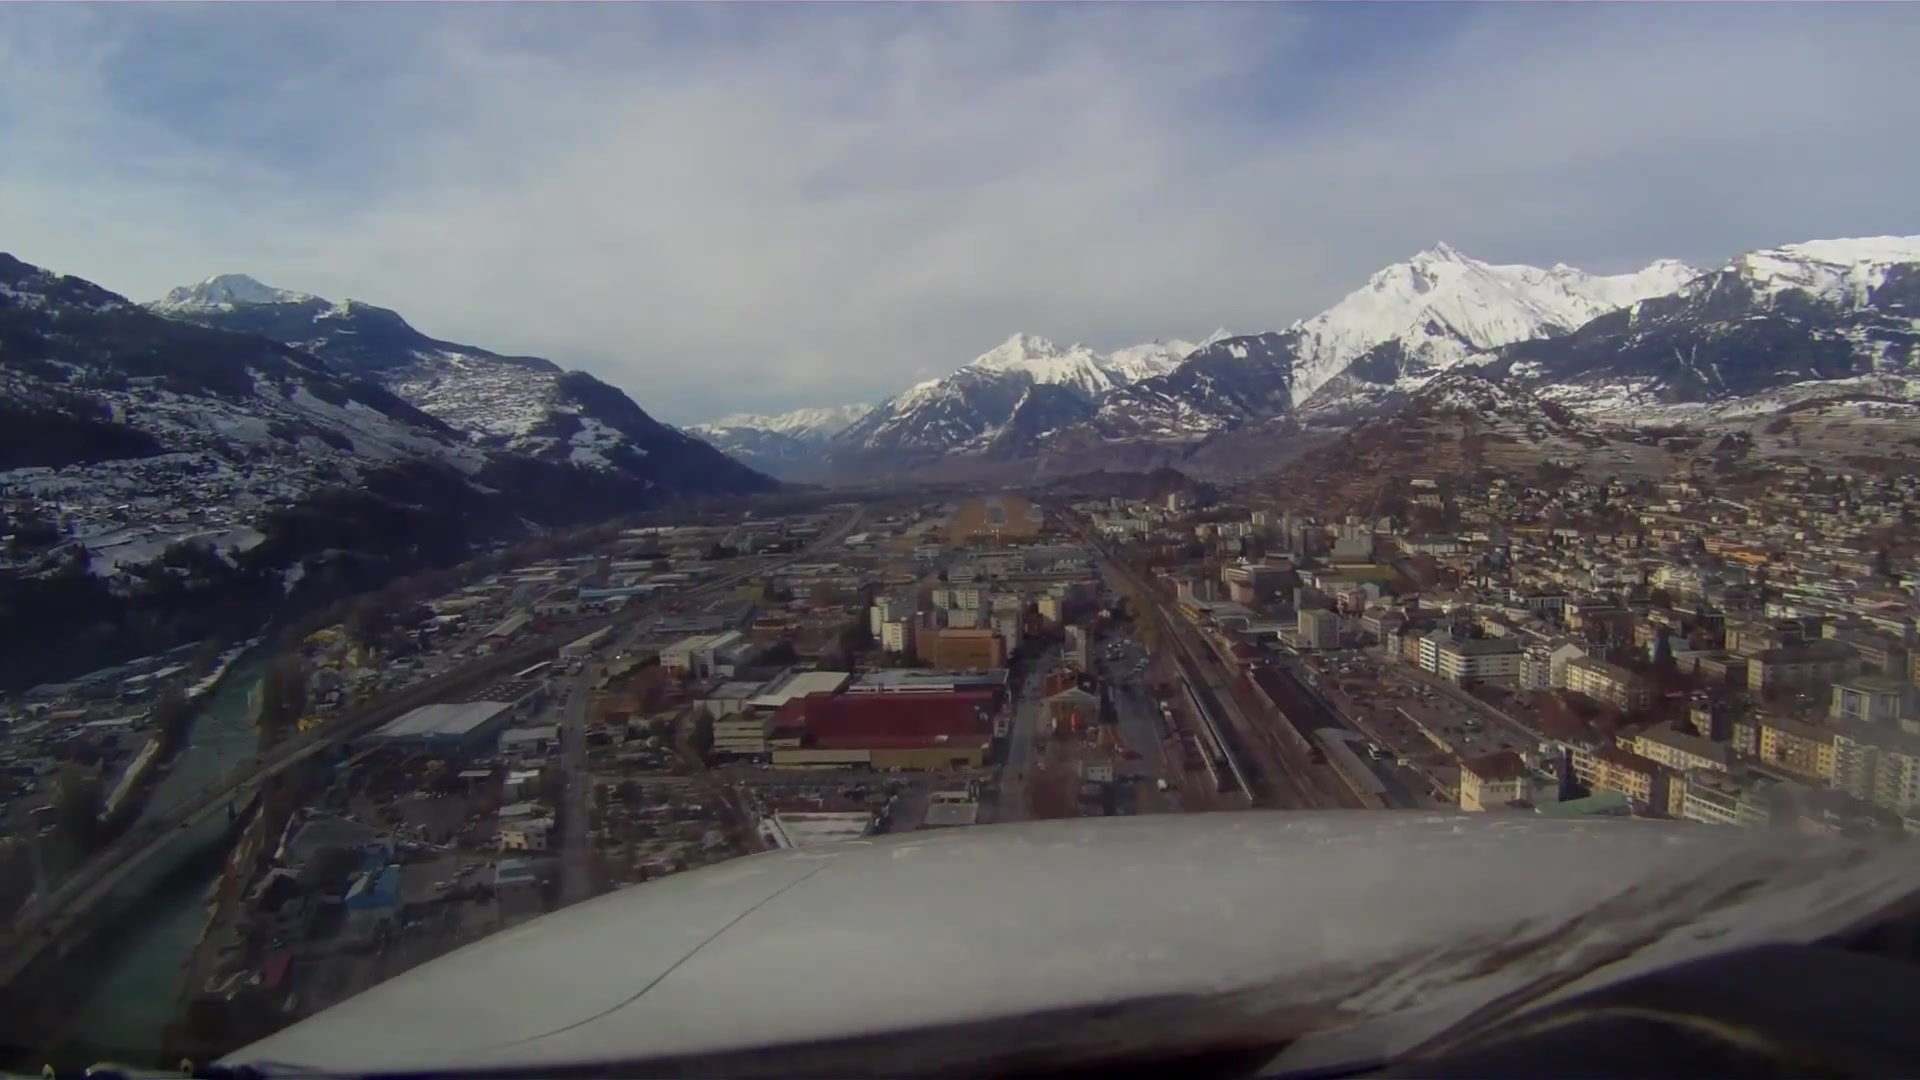runway: (986, 493, 1007, 525)
